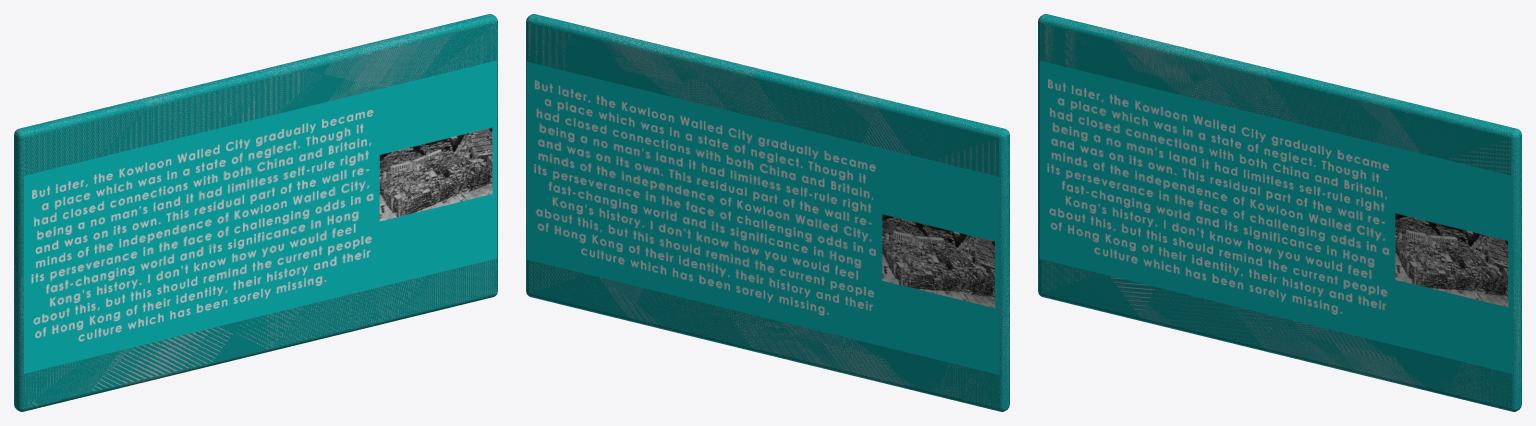
Rendered from 8 - Wall (b).fbx.
The picture shows the model from 3 angles, left to right: view 1: azimuth 30°, elevation 25°; view 2: azimuth 150°, elevation 25°; view 3: azimuth 330°, elevation 25°; orthographic projection.
Visible parts, largest first — view 1: Model; view 2: Model; view 3: Model.
Part boxes in pixels (x1=…): Model: x1=14, y1=14, x2=497, y2=411; Model: x1=526, y1=14, x2=1009, y2=411; Model: x1=1038, y1=14, x2=1521, y2=411.
Bounding box in the file's own units: 4.67 × 2.61 × 0.1402.
